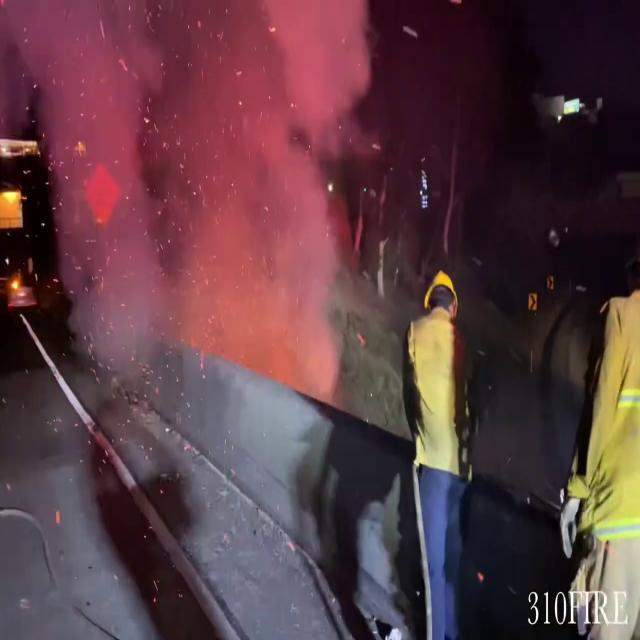Smoke: (3, 0, 375, 372)
